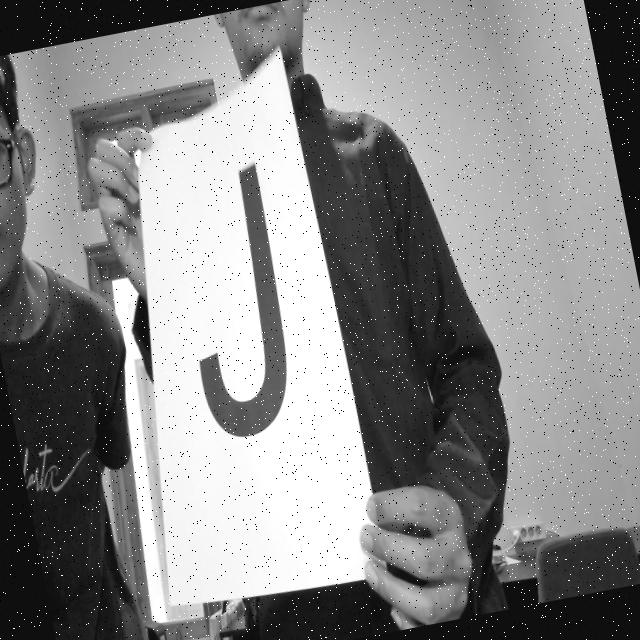j: (138, 138, 372, 488)
